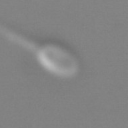normal: (1, 25, 38, 54)
